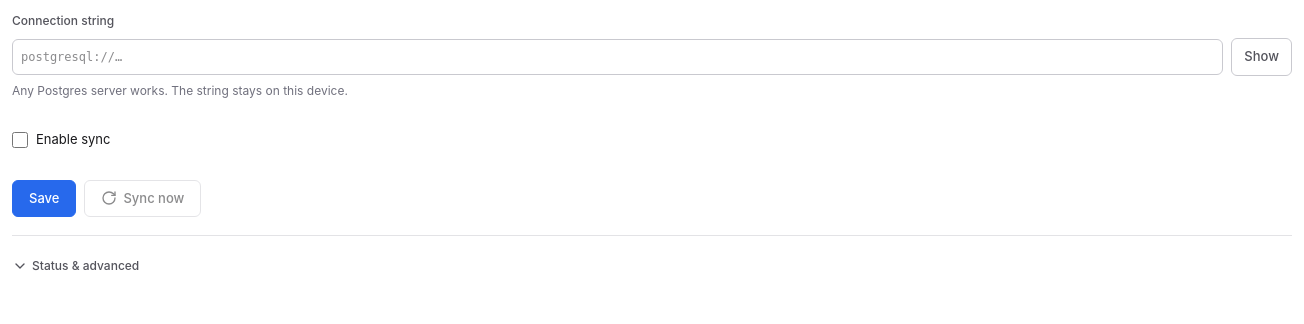
Test: SyncPane › shows a rejected save message without closing the tab
Click the button with test id "sync-save".
click(44, 198)  # box [12,180,76,217]
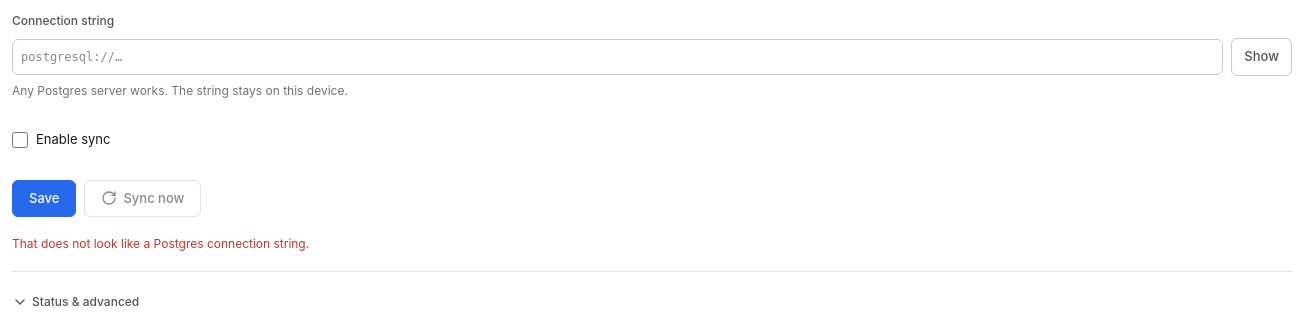
Check: the message with test id "sync-error" shows "Postgres connection string", box [12,236,309,251]
